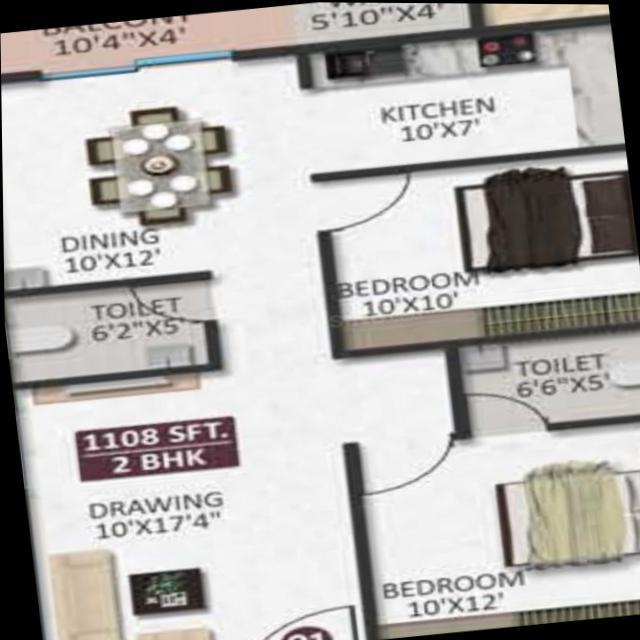Balcony-Sitout: (0, 3, 291, 69)
Bedroom: (314, 142, 640, 348)
Bedroom with Toilet: (338, 325, 640, 639)
Dining: (69, 95, 245, 235)
Enterance-Foyer: (236, 595, 357, 640)
Kitchen: (300, 21, 624, 171)
Living: (10, 354, 365, 640)
Toilet: (4, 275, 208, 379), (459, 328, 640, 431)
Utility: (290, 2, 470, 42)
